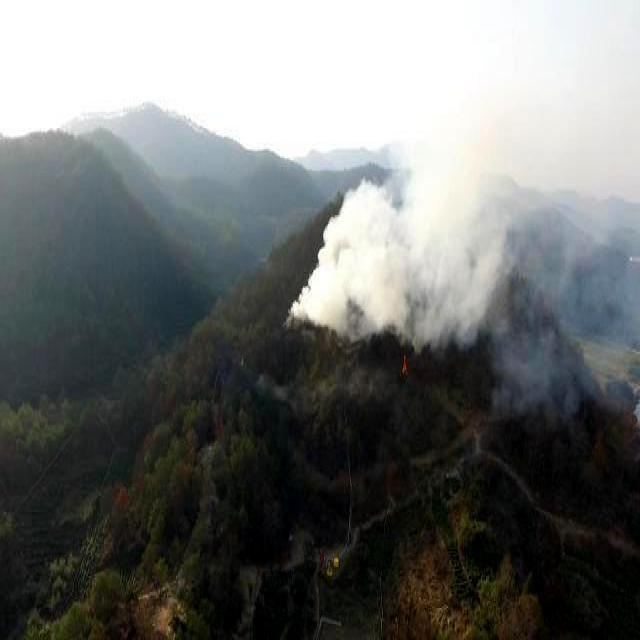Smoke: (292, 113, 526, 336)
